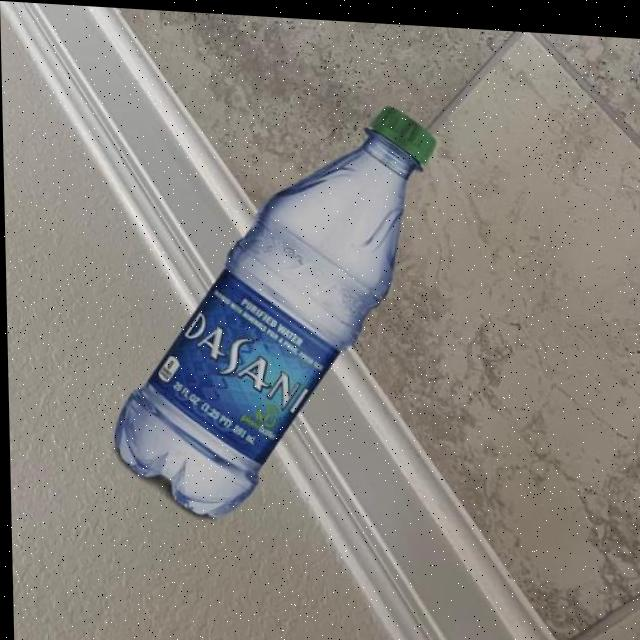bottle: (102, 87, 444, 528)
